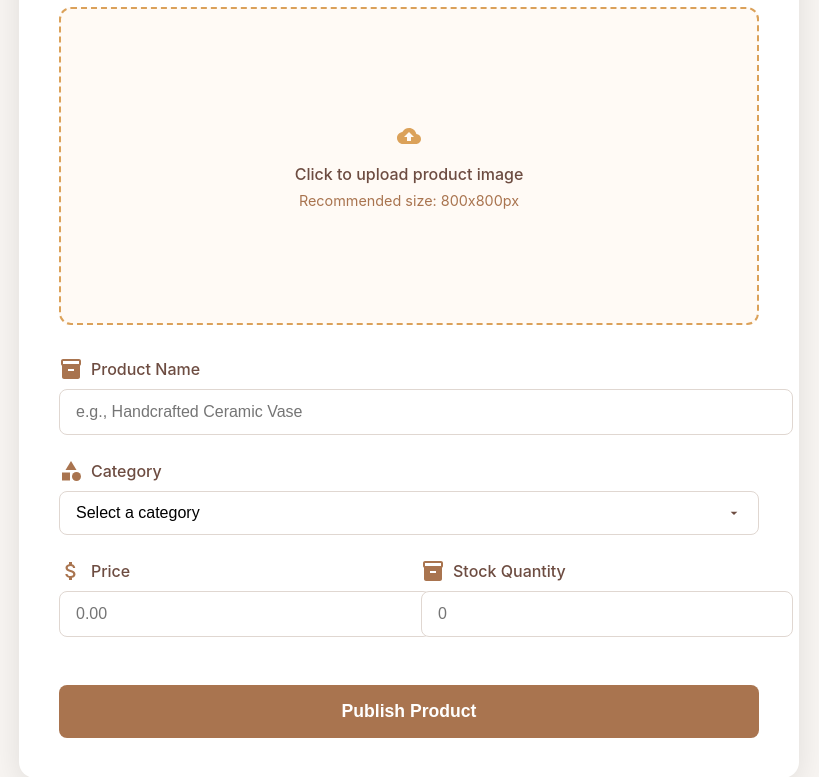
AddProduct › shows error if image file is missing
(page scrolled)
Click the button "Publish Product": coordinates (409, 711) x1=59 y1=685 x2=759 y2=738
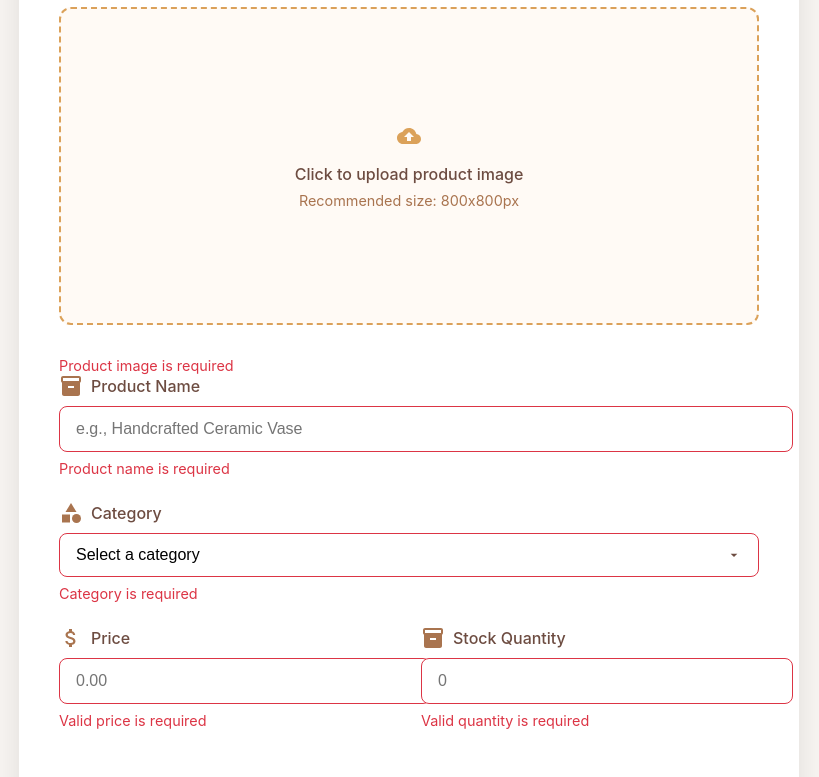
Expected: the text "Product image is required" is shown, x1=59 y1=357 x2=234 y2=374
